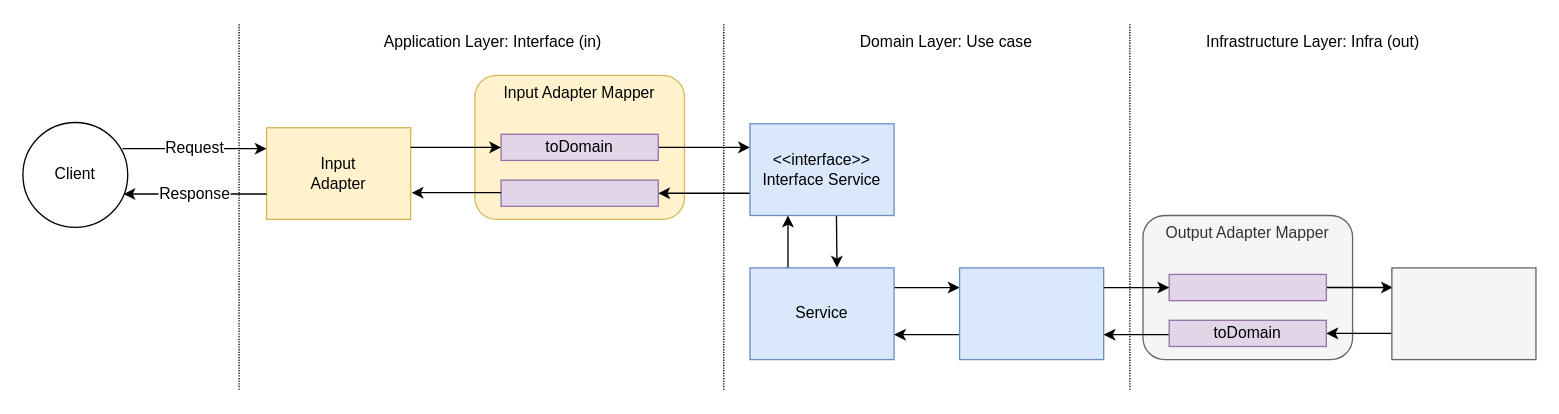
The diagram is 1559 pixels wide and 414 high, and some of its shapes have lost their labels. Each missing label, with the box of its shape:
<<interface>> Interface Repo: (958, 267, 1104, 360)
Output Adapter: (1391, 267, 1536, 360)
toInfra: (1168, 273, 1326, 301)
toResponse: (500, 179, 658, 206)
